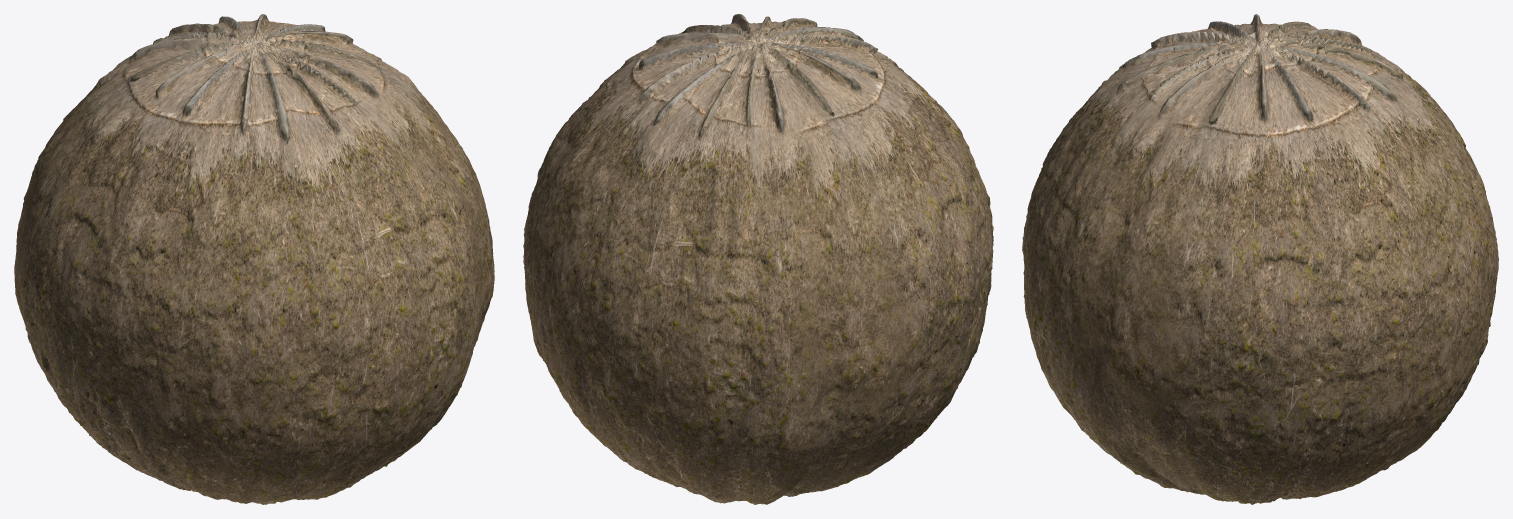
The model's file is reed_roof_03_2k.gltf.
3 views of the same model, side by side, from view 1: azimuth 30°, elevation 25°; view 2: azimuth 150°, elevation 25°; view 3: azimuth 270°, elevation 25° (orthographic).
Parts seen in each view (by area): view 1: sphere_gltf; view 2: sphere_gltf; view 3: sphere_gltf.
Part boxes in pixels (left/top/right/bottom): sphere_gltf: left=14, top=14, right=494, bottom=504; sphere_gltf: left=523, top=14, right=993, bottom=504; sphere_gltf: left=1022, top=14, right=1498, bottom=504.
Bounding box in the file's own units: 2.49 × 2.56 × 2.49.
1 material, 1 textured.
